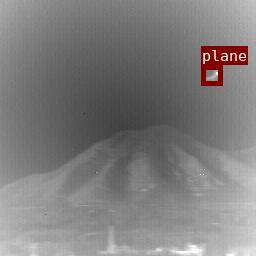plane: (201, 65, 222, 85)
